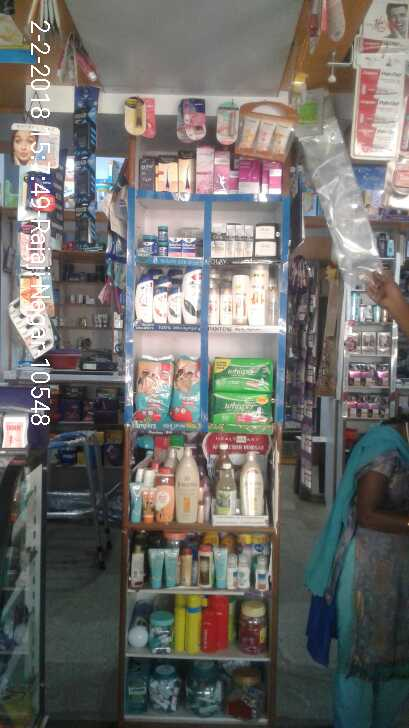beauty: (251, 262, 270, 326), (131, 273, 152, 324), (225, 222, 252, 260), (230, 274, 250, 324), (183, 267, 200, 325), (218, 285, 235, 323), (152, 282, 167, 322), (211, 223, 227, 258), (252, 221, 279, 241), (167, 287, 181, 322), (208, 285, 219, 324), (254, 242, 279, 255)
pharmacy: (134, 359, 171, 425), (211, 356, 276, 392), (211, 391, 274, 428), (170, 359, 201, 423), (182, 236, 196, 259), (150, 240, 166, 258), (166, 237, 181, 256), (156, 223, 169, 241), (140, 235, 152, 251)
